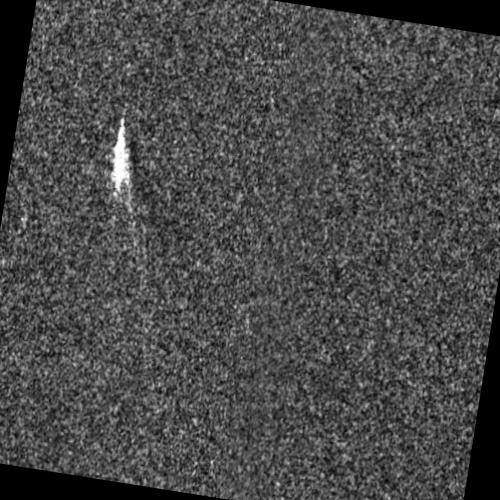ship: (112, 116, 126, 193)
